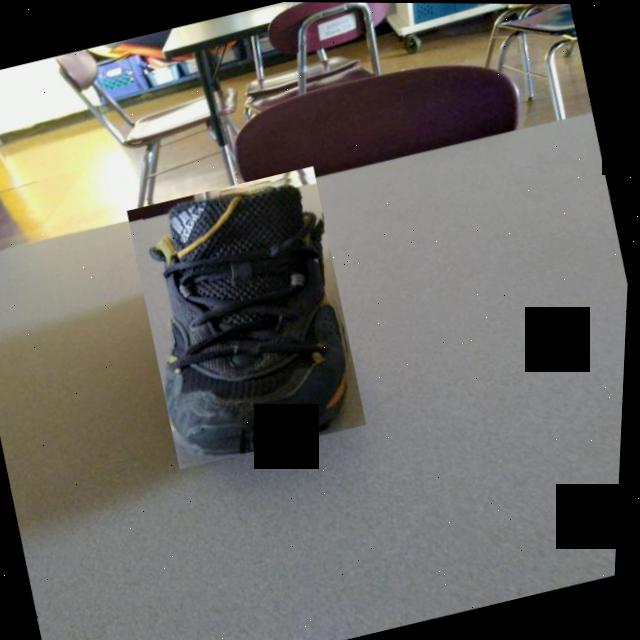shoe: (119, 164, 379, 470)
